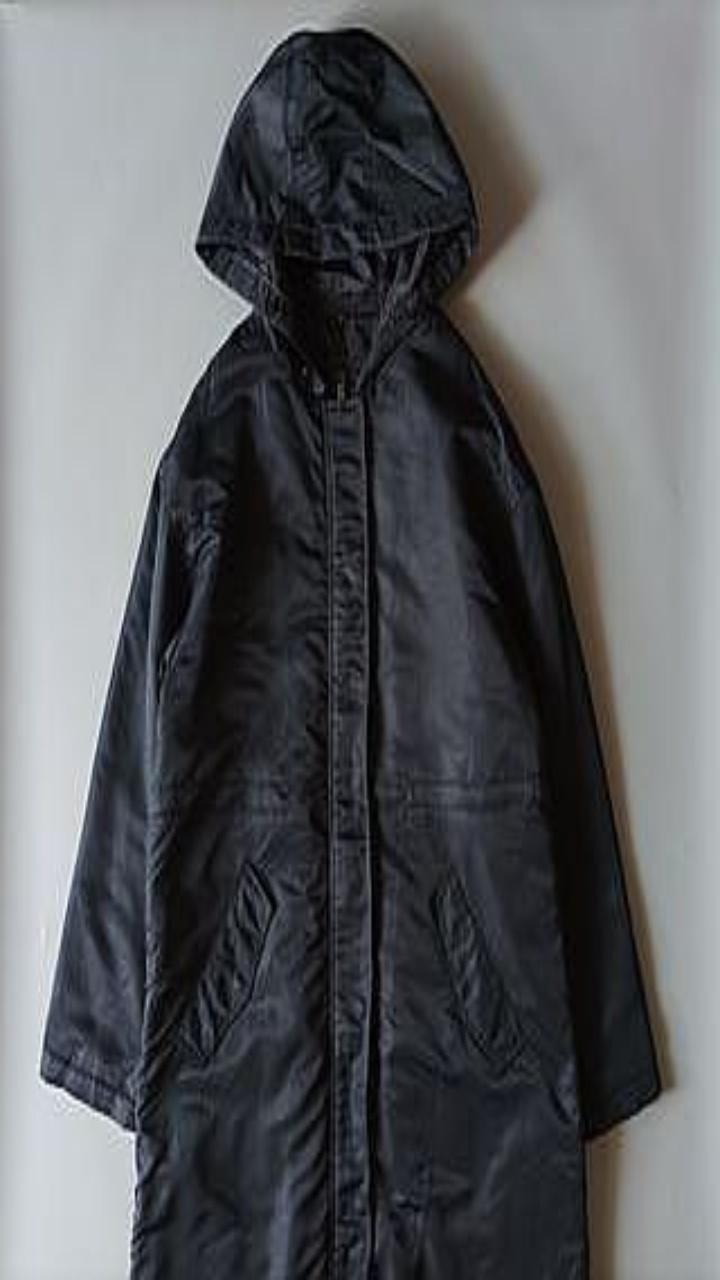Coat: (41, 25, 660, 1279)
